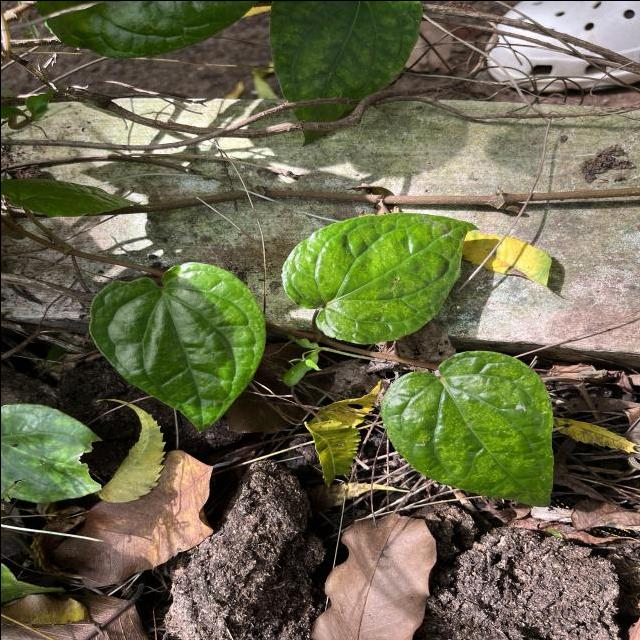Piper betle: (84, 258, 268, 434), (377, 348, 557, 511), (275, 210, 481, 346)
